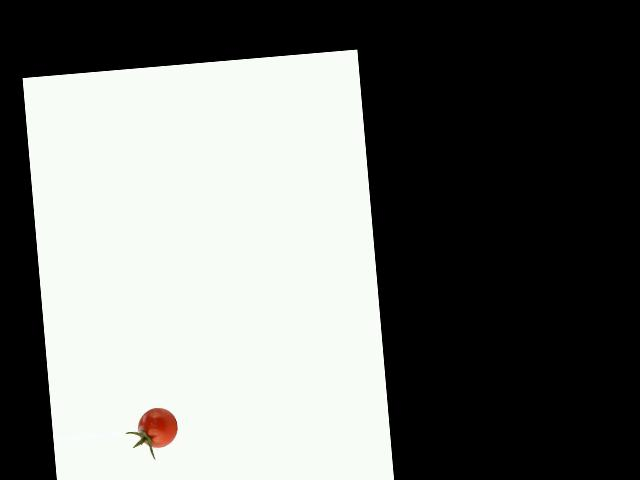tomato: (136, 405, 179, 448)
